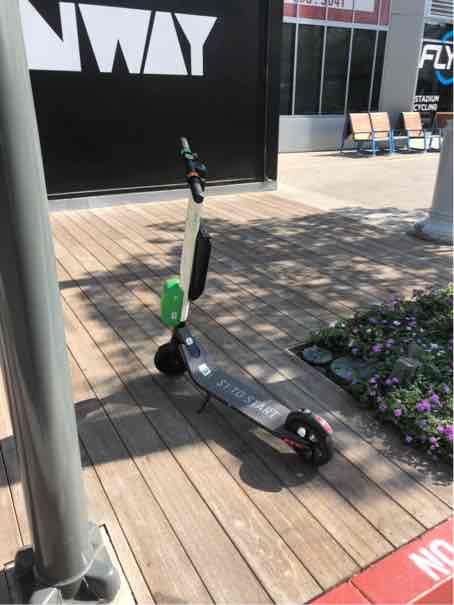scooter: (133, 141, 454, 340)
